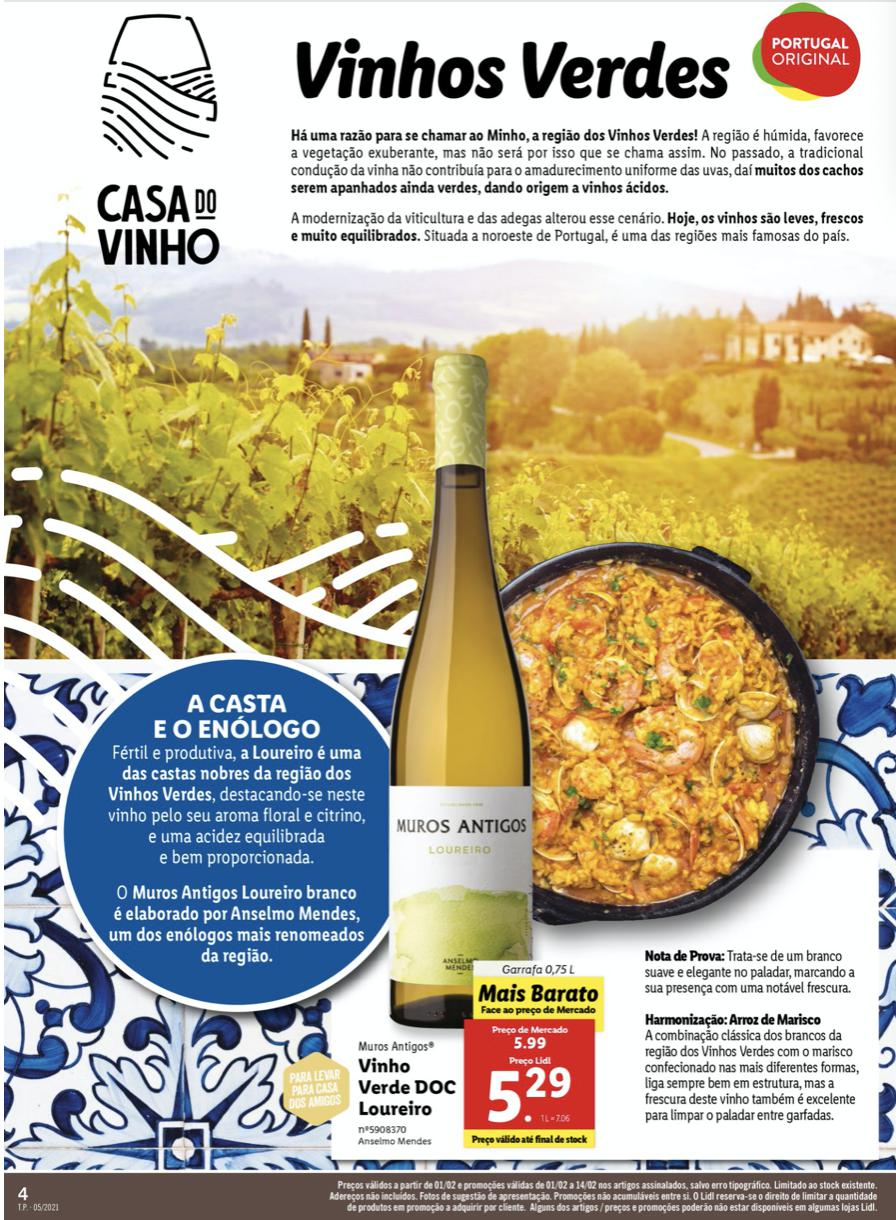name: (349, 1050, 461, 1116)
price: (478, 1060, 588, 1128)
product: (326, 354, 629, 1159)
